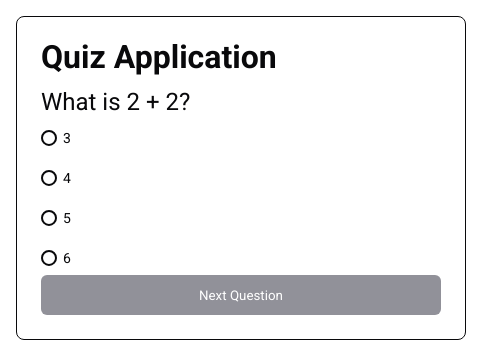
Scenario: App Component › should navigate to the next question
This screenshot has width=483, height=357.
Expected: the text "What is 2 + 2?" is shown, [41,88,190,116]
Click the radio button labelled "4" at (49, 178), box [41,170,57,186]
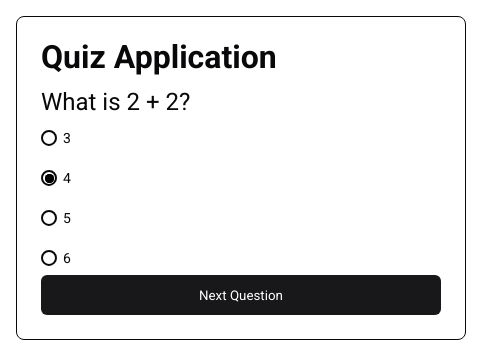
Expected: the radio button labelled "4" is checked, [41,170,57,186]
Click the button "Next Question" at (241, 295), box [41,275,441,315]
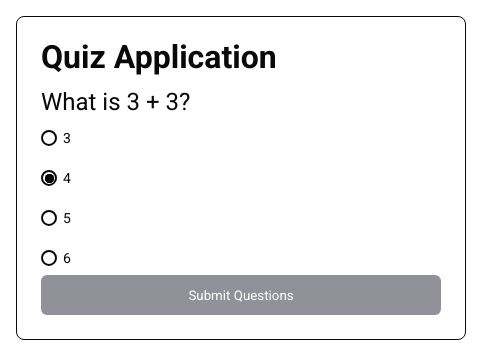
Expected: the text "What is 3 + 3?" is shown, [41,88,190,116]
